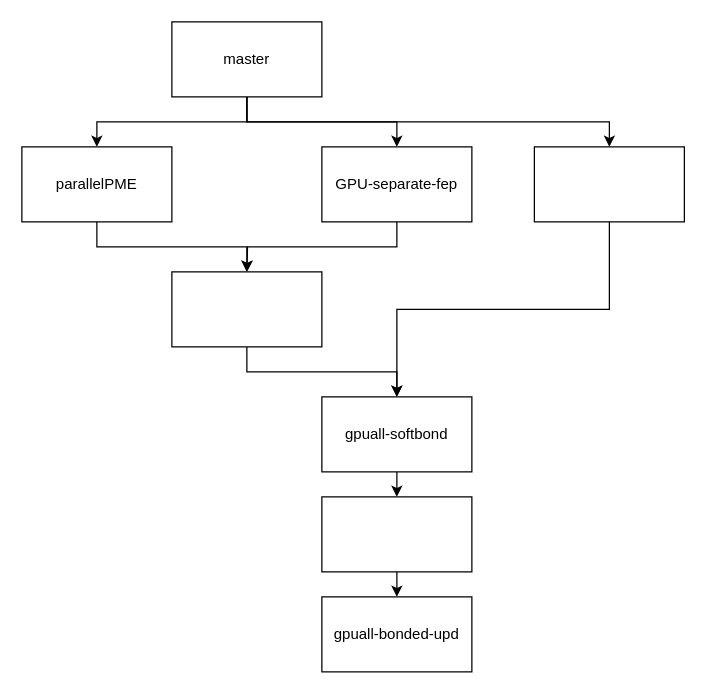
The diagram is 706 pixels wide and 694 high, and some of its shapes have lost their labels. The box of each missing label's shape, as (x1, y1, x2, y2) in pixels:
gpuall: (171, 271, 322, 347)
gpuall-bonded: (321, 496, 472, 572)
softbond: (533, 146, 684, 222)
